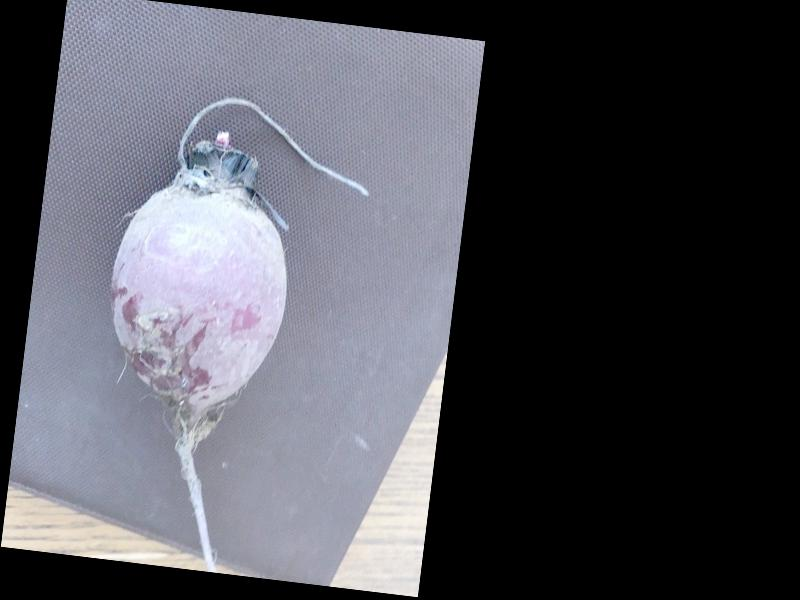Beet: (76, 85, 379, 586)
